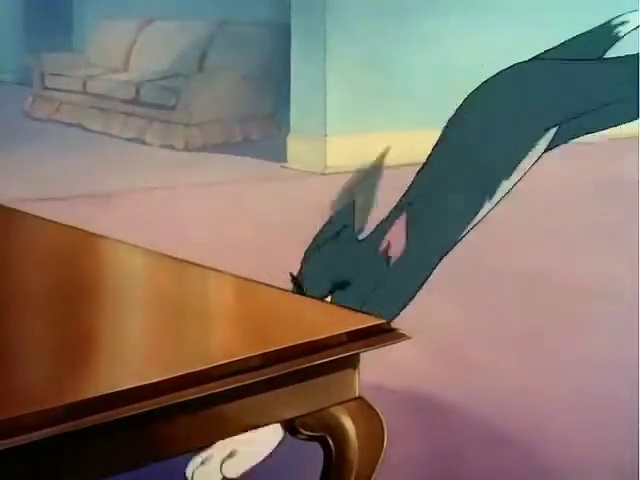tom: (208, 14, 631, 317)
